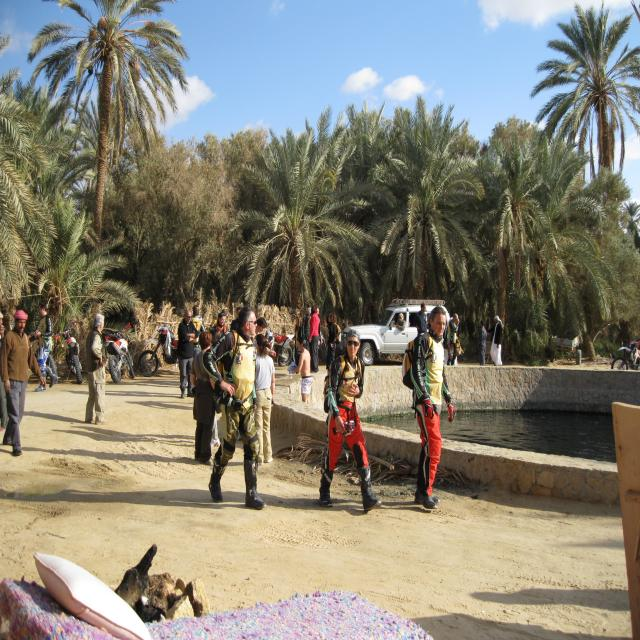body: (207, 304, 272, 511), (319, 328, 382, 512), (400, 304, 456, 510), (0, 307, 47, 457), (189, 330, 222, 467), (82, 313, 111, 427), (253, 334, 276, 466), (175, 308, 199, 400), (34, 302, 58, 392), (209, 328, 223, 448), (291, 336, 313, 406), (442, 312, 464, 371), (0, 312, 10, 430), (254, 316, 276, 360), (326, 312, 341, 370), (308, 304, 320, 374), (489, 314, 504, 368), (190, 308, 205, 360), (292, 315, 302, 374), (413, 302, 428, 336), (301, 307, 312, 352), (618, 316, 633, 348), (477, 320, 487, 366), (214, 312, 228, 337), (394, 313, 407, 331), (191, 304, 203, 321), (235, 306, 242, 317), (319, 333, 324, 343), (209, 319, 216, 325), (222, 309, 227, 316), (316, 307, 320, 315)
